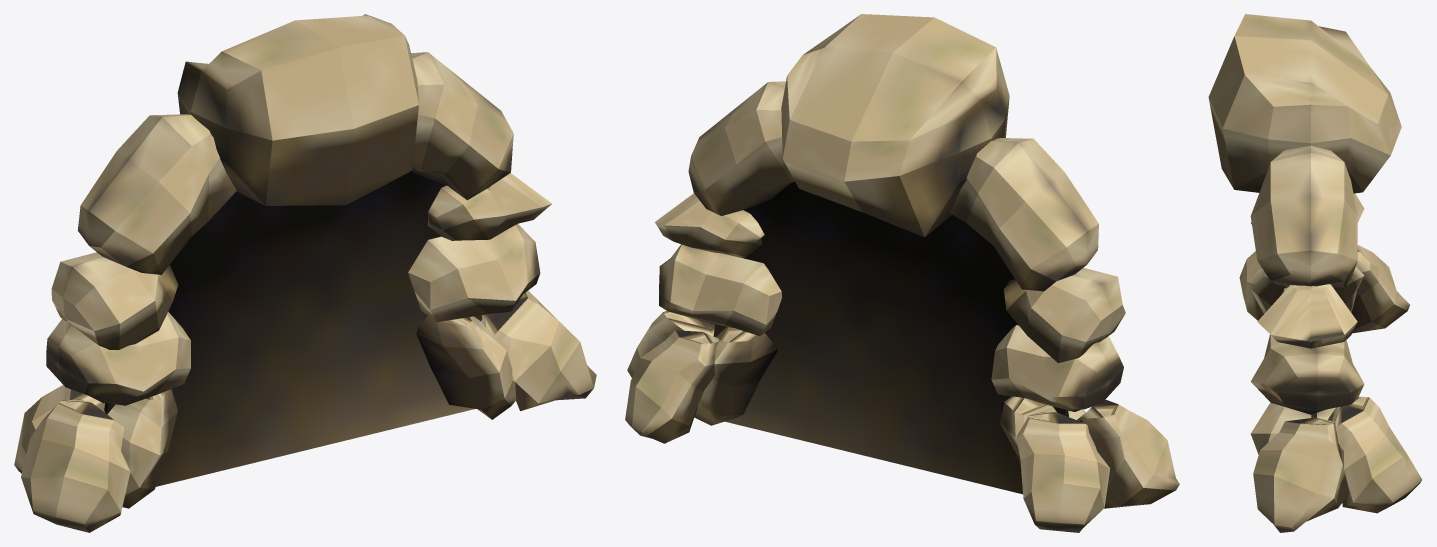
Rendered from Poly_World_Map_Entrance_02.obj.
3 views of the same model, side by side, from view 1: azimuth 30°, elevation 25°; view 2: azimuth 150°, elevation 25°; view 3: azimuth 270°, elevation 25° (orthographic). The views are drawn at different scales.
Visible parts, largest first — view 1: Grid.016, Grid.005, Grid.001, Grid.014, Grid.003, Grid.002, Grid.004, Grid.013; view 2: Grid.016, Grid.005, Grid.001, Grid.013, Grid.003, Grid.002, Grid.014, Grid.004; view 3: Grid.005, Grid.001, Grid.013, Grid.014, Grid.003, Grid.002, Grid.004.
Boxes of the visible parts, x1=… form: Grid.016: x1=104, y1=171, x2=482, y2=486; Grid.005: x1=177, y1=14, x2=418, y2=205; Grid.001: x1=77, y1=52, x2=513, y2=274; Grid.014: x1=21, y1=290, x2=596, y2=532; Grid.003: x1=46, y1=224, x2=540, y2=405; Grid.002: x1=51, y1=173, x2=551, y2=349; Grid.004: x1=107, y1=316, x2=516, y2=508; Grid.013: x1=14, y1=385, x2=104, y2=473; Grid.016: x1=713, y1=182, x2=1068, y2=494; Grid.005: x1=781, y1=14, x2=1009, y2=237; Grid.001: x1=688, y1=81, x2=1098, y2=291; Grid.013: x1=625, y1=330, x2=1110, y2=532; Grid.003: x1=659, y1=244, x2=1123, y2=411; Grid.002: x1=655, y1=193, x2=1125, y2=363; Grid.014: x1=627, y1=311, x2=1179, y2=508; Grid.004: x1=694, y1=327, x2=1085, y2=466; Grid.005: x1=1208, y1=14, x2=1401, y2=193; Grid.001: x1=1250, y1=145, x2=1357, y2=287; Grid.013: x1=1328, y1=245, x2=1422, y2=513; Grid.014: x1=1239, y1=251, x2=1349, y2=532; Grid.003: x1=1251, y1=193, x2=1364, y2=414; Grid.002: x1=1257, y1=284, x2=1357, y2=348; Grid.004: x1=1250, y1=265, x2=1364, y2=454.
Size of the model in its own units: 0.8632 by 0.6294 by 0.3197.
1 material, 1 textured.
